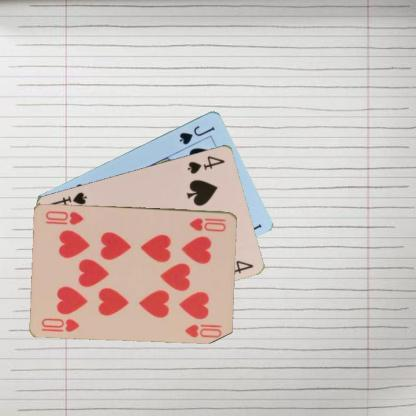10h: (39, 315, 81, 333), (187, 215, 227, 233)
4s: (185, 153, 226, 175)
Js: (176, 122, 217, 146)
